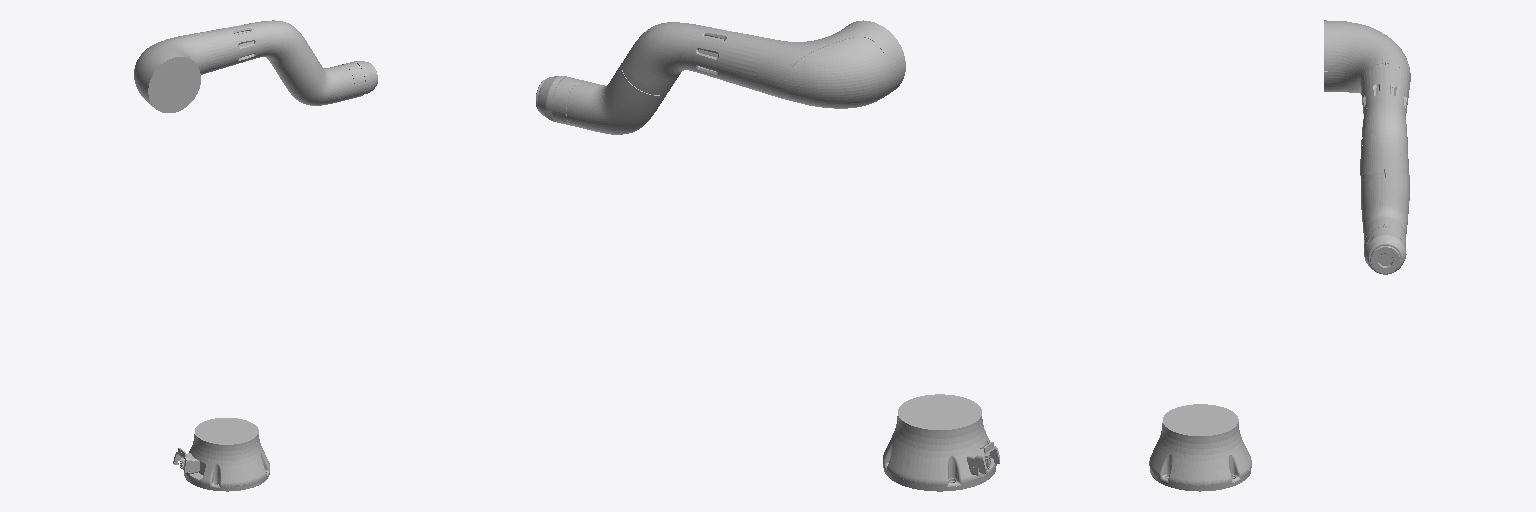
URDF robot description (yl102):
<?xml version="1.0" encoding="utf-8"?>

<robot name="yl102">
<link name="world"/>
  <link name="link0">

                      
    <inertial>
      <origin xyz="0.000247812 0.000247476 0.0505918" rpy="0 0 0" />
      <mass value="4.59375" />
      <inertia ixx="0.0152439" ixy="0.000200106" ixz="0.000124082" iyy="0.0273594" iyz="1.06874e-05" izz="0.0370589" />
    </inertial>
    <visual>
      <origin xyz="0 0 0" rpy="0 0 0" />
      <geometry>
        <mesh filename="meshes/link0.stl"    />
      </geometry>
      <material name="">
        <color rgba="0.75294 0.75294 0.75294 1" />
      </material>
    </visual>
    <collision>
      <origin xyz="0 0 0" rpy="0 0 0" />
      <geometry>
        <mesh filename="meshes/link0.stl"    />
      </geometry>
    </collision>
  </link>

  <link name="link1">
    <inertial>
    <origin xyz="0.000142015 0.0285074 0.119455" rpy="0 0 0" />
    <mass value="10.51657" />
    <inertia ixx="0.0551209" ixy="-5.13223e-05" ixz="-4.83089e-05" iyy="0.0494305" iyz="-0.0110939" izz="0.0363787" />
  </inertial>
    <visual>
      <origin xyz="0 0 0" rpy="0 0 0" />
      <geometry>
        <mesh filename="meshes/link1.stl"    />
      </geometry>
      <material name="">
        <color rgba="0.75294 0.75294 0.75294 1" />
      </material>
    </visual>
    <collision>
      <origin xyz="0 0 0" rpy="0 0 0" />
      <geometry>
        <mesh filename="meshes/link1.stl"    />
      </geometry>
    </collision>
  </link>

  <link name="link2">
<inertial>
  <origin xyz="0.297682 0.000392564 0.0575885" rpy="0 0 0" />
  <mass value="13.550371" />
  <inertia ixx="0.102354" ixy="0.147595" ixz="0.00104147" iyy="1.48599" iyz="-0.000372513" izz="1.43248" />
</inertial>
    <visual>
      <origin xyz="0 0 0" rpy="0 0 0" />
      <geometry>
        <mesh filename="meshes/link2.stl"    />
      </geometry>
      <material name="">
        <color rgba="0.75294 0.75294 0.75294 1" />
      </material>
    </visual>
    <collision>
      <origin xyz="0 0 0" rpy="0 0 0" />
      <geometry>
        <mesh filename="meshes/link2.stl"    />
      </geometry>
    </collision>
  </link>

  <link name="link3">

<inertial>
  <origin xyz="0.0320635 0.000171503 0.0829559" rpy="0 0 0" />
  <mass value="5.290133" />
  <inertia ixx="0.0153011" ixy="-0.00582277" ixz="2.85545e-05" iyy="0.022998" iyz="-2.03293e-05" izz="0.0180684" />
</inertial>
    <visual>
      <origin xyz="0 0 0" rpy="0 0 0" />
      <geometry>
        <mesh filename="meshes/link3.stl"    />
      </geometry>
      <material name="">
        <color rgba="0.75294 0.75294 0.75294 1" />
      </material>
    </visual>
    <collision>
      <origin xyz="0 0 0" rpy="0 0 0" />
      <geometry>
        <mesh filename="meshes/link3.stl"    />
      </geometry>
    </collision>
  </link>

  <link name="link4">
<inertial>
  <origin xyz="0.013664 -0.000984818 0.150329" rpy="0 0 0" />
  <mass value="3.595617" />
  <inertia ixx="0.0268371" ixy="-0.0043623" ixz="2.99902e-05" iyy="0.0282347" iyz="0.000149903" izz="0.00518421" />
</inertial>

    <visual>
      <origin xyz="0 0 0" rpy="0 0 0" />
      <geometry>
        <mesh filename="meshes/link4.stl"    />
      </geometry>
      <material name="">
        <color rgba="0.75294 0.75294 0.75294 1" />
      </material>
    </visual>
    <collision>
      <origin xyz="0 0 0" rpy="0 0 0" />
      <geometry>
        <mesh filename="meshes/link4.stl"    />
      </geometry>
    </collision>
  </link>

  <link name="link5">
<inertial>
  <origin xyz="0.015522 0.000368096 0.0840352" rpy="0 0 0" />
  <mass value="2.643843" />
  <inertia ixx="0.00606419" ixy="-0.0016915" ixz="-1.2174e-05" iyy="0.00720539" iyz="-2.18997e-05" izz="0.00353509" />
</inertial>
    <visual>
      <origin xyz="0 0 0" rpy="0 0 0" />
      <geometry>
        <mesh filename="meshes/link5.stl"    />
      </geometry>
      <material name="">
        <color rgba="0.75294 0.75294 0.75294 1" />
      </material>
    </visual>
    <collision>
      <origin xyz="0 0 0" rpy="0 0 0" />
      <geometry>
        <mesh filename="meshes/link5.stl"    />
      </geometry>
    </collision>
  </link>

  <link name="link6">
  <inertial>
    <origin xyz="0.000133705 -0.000192709 0.0334362" rpy="0 0 0" />
    <mass value="1.094456" />
    <inertia ixx="0.000502088" ixy="-4.44825e-07" ixz="2.32639e-07" iyy="0.000502074" iyz="-3.01736e-07" izz="0.000531034" />
  </inertial>
    <visual>
      <origin xyz="0 0 0" rpy="0 0 0" />
      <geometry>
        <mesh filename="meshes/link6.stl"    />
      </geometry>
      <material name="">
        <color rgba="0.75294 0.75294 0.75294 1" />
      </material>
    </visual>
    <collision>
      <origin xyz="0 0 0" rpy="0 0 0" />
      <geometry>
        <mesh filename="meshes/link6.stl"    />
      </geometry>
    </collision>
  </link>

 

  <link name="tcp"/>


<!-- joints -->
<joint name="world_fixed" type="fixed">
   <parent link="world" />
    <child link="link0" />
</joint>
  <joint name="joint0" type="revolute">
    <origin xyz="0 0 0.11475" rpy="0 0 0" />
    <parent link="link0" />
    <child link="link1" />
    <axis xyz="0 0 1" />
    <limit
      lower="-3.141592"
      upper="3.141592"
      effort="400"
      velocity="3" />
  </joint>

  <joint name="joint1" type="revolute">
    <origin xyz="0 0.11975 0.1639" rpy="0  -1.570796327    -1.570796327" />
    <parent link="link1" />
    <child link="link2" />
    <axis xyz="0 0 1" />
    <limit
      upper="4.712388"
      lower="-1.570796"
      effort="400"
      velocity="2.5" />
  </joint>

  <joint name="joint2" type="revolute">
    <origin xyz="0.674 0 0.13729" rpy="0 0 1.570796327" />
    <parent link="link2" />
    <child link="link3" />
    <axis xyz="0 0 1" />
    <limit
      lower="-3.141592"
      upper="3.141592"
      effort="100"
      velocity="2.6179938779914944" />
  </joint>

  <joint name="joint3" type="revolute">
    <origin xyz="0.14461 0.0 0.12844" rpy="1.570796327 0 1.570796327 " />
    <parent link="link3" />
    <child link="link4" />
    <axis xyz="0 0 1" />
    <limit
      lower="-3.141592"
      upper="3.141592"
      effort="49"
      velocity="2.6179938779914944" />
  </joint>

  <joint name="joint4" type="revolute">
  <!-- 0      1.0471975511966   -3.14159265358979 -->
    <origin xyz="0.08141 0 0.26886" rpy="  3.14159265358979      -2.0943951023932   0" />
    <parent link="link4" />
    <child link="link5" />
    <axis xyz="0 0 1" />
    <limit
      lower="-3.141592"
      upper="3.141592"
      effort="54.88"
      velocity="3.141592653589793" />
  </joint>

  <joint name="joint5" type="revolute">
    <origin xyz="0.08259 0 0.15411" rpy="0  1.0471975511966  0" />
    <parent link="link5" />
    <child link="link6" />
    <axis xyz="0 0 1" />
    <limit
      lower="-3.141592"
      upper="3.141592"
      effort="27.44"
      velocity="3.141592653589793" />
  </joint>

 
  <joint name="tcp_fixed" type="fixed">
    <origin xyz="0 0 0.07384" rpy="0 0 0" />
    <parent link="link6" />
    <child link="tcp" />
    <axis xyz="0 0 0" />
  </joint>

</robot>

--- What the picture shows (computed from the rendered views, not written in the file) ---
The picture shows the robot from 3 angles, left to right: view 1: azimuth 30°, elevation 25°; view 2: azimuth 150°, elevation 25°; view 3: azimuth 270°, elevation 25°; orthographic projection.
Model yl102 with 9 links and 8 joints (6 revolute, 2 fixed), rooted at world, posed every joint at zero.
Visible links, largest first — view 1: link0, link3, link4, link5, link6; view 2: link3, link0, link4, link5, link6; view 3: link0, link4, link3, link5, link6.
Boxes of the visible links, left/top/right/bottom form: link0: left=173, top=418, right=269, bottom=491; link3: left=134, top=33, right=209, bottom=112; link4: left=197, top=20, right=312, bottom=75; link5: left=277, top=53, right=354, bottom=105; link6: left=342, top=61, right=377, bottom=98; link3: left=757, top=20, right=905, bottom=108; link0: left=883, top=394, right=999, bottom=491; link4: left=622, top=22, right=774, bottom=94; link5: left=566, top=60, right=666, bottom=134; link6: left=536, top=76, right=580, bottom=125; link0: left=1149, top=404, right=1251, bottom=491; link4: left=1360, top=63, right=1409, bottom=175; link3: left=1324, top=20, right=1410, bottom=93; link5: left=1361, top=173, right=1409, bottom=242; link6: left=1364, top=227, right=1406, bottom=274.
Bounding box of the posed robot: 0.7619 × 0.5457 × 1.03 m (x, y, z).
5 mesh visuals loaded from 7 distinct referenced files (5 binary STL); not drawn: 2 (reference not matched to a file when rendering).
